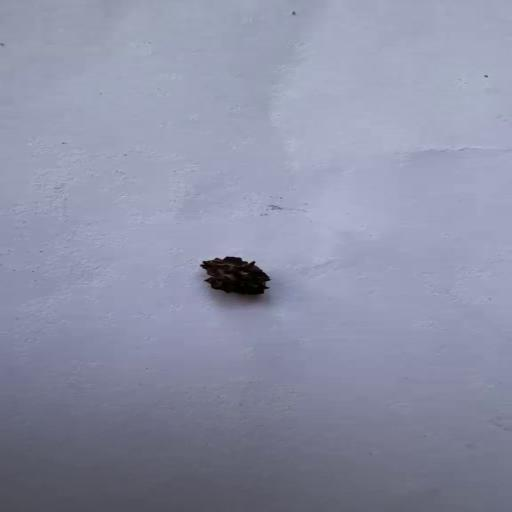papaya_seed: (194, 248, 274, 298)
